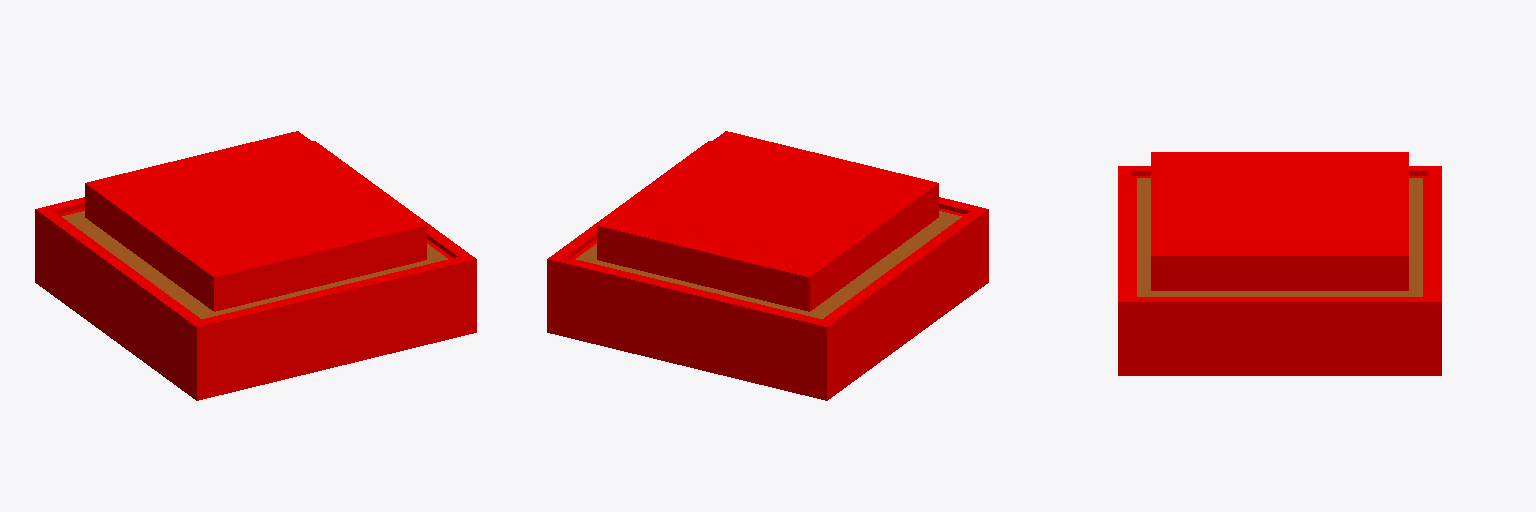
The model's file is tileHedge.obj.
The picture shows the model from 3 angles: view 1: azimuth 30°, elevation 25°; view 2: azimuth 150°, elevation 25°; view 3: azimuth 270°, elevation 25°; orthographic projection.
Parts seen in each view (by area): view 1: Hedge1.002_Cube.034; view 2: Hedge1.002_Cube.034; view 3: Hedge1.002_Cube.034.
Part boxes in pixels (bbox=[...]): Hedge1.002_Cube.034: bbox=[35, 131, 476, 400]; Hedge1.002_Cube.034: bbox=[547, 131, 988, 400]; Hedge1.002_Cube.034: bbox=[1118, 152, 1441, 375].
Bounding box in the file's own units: 1 × 0.3533 × 1.